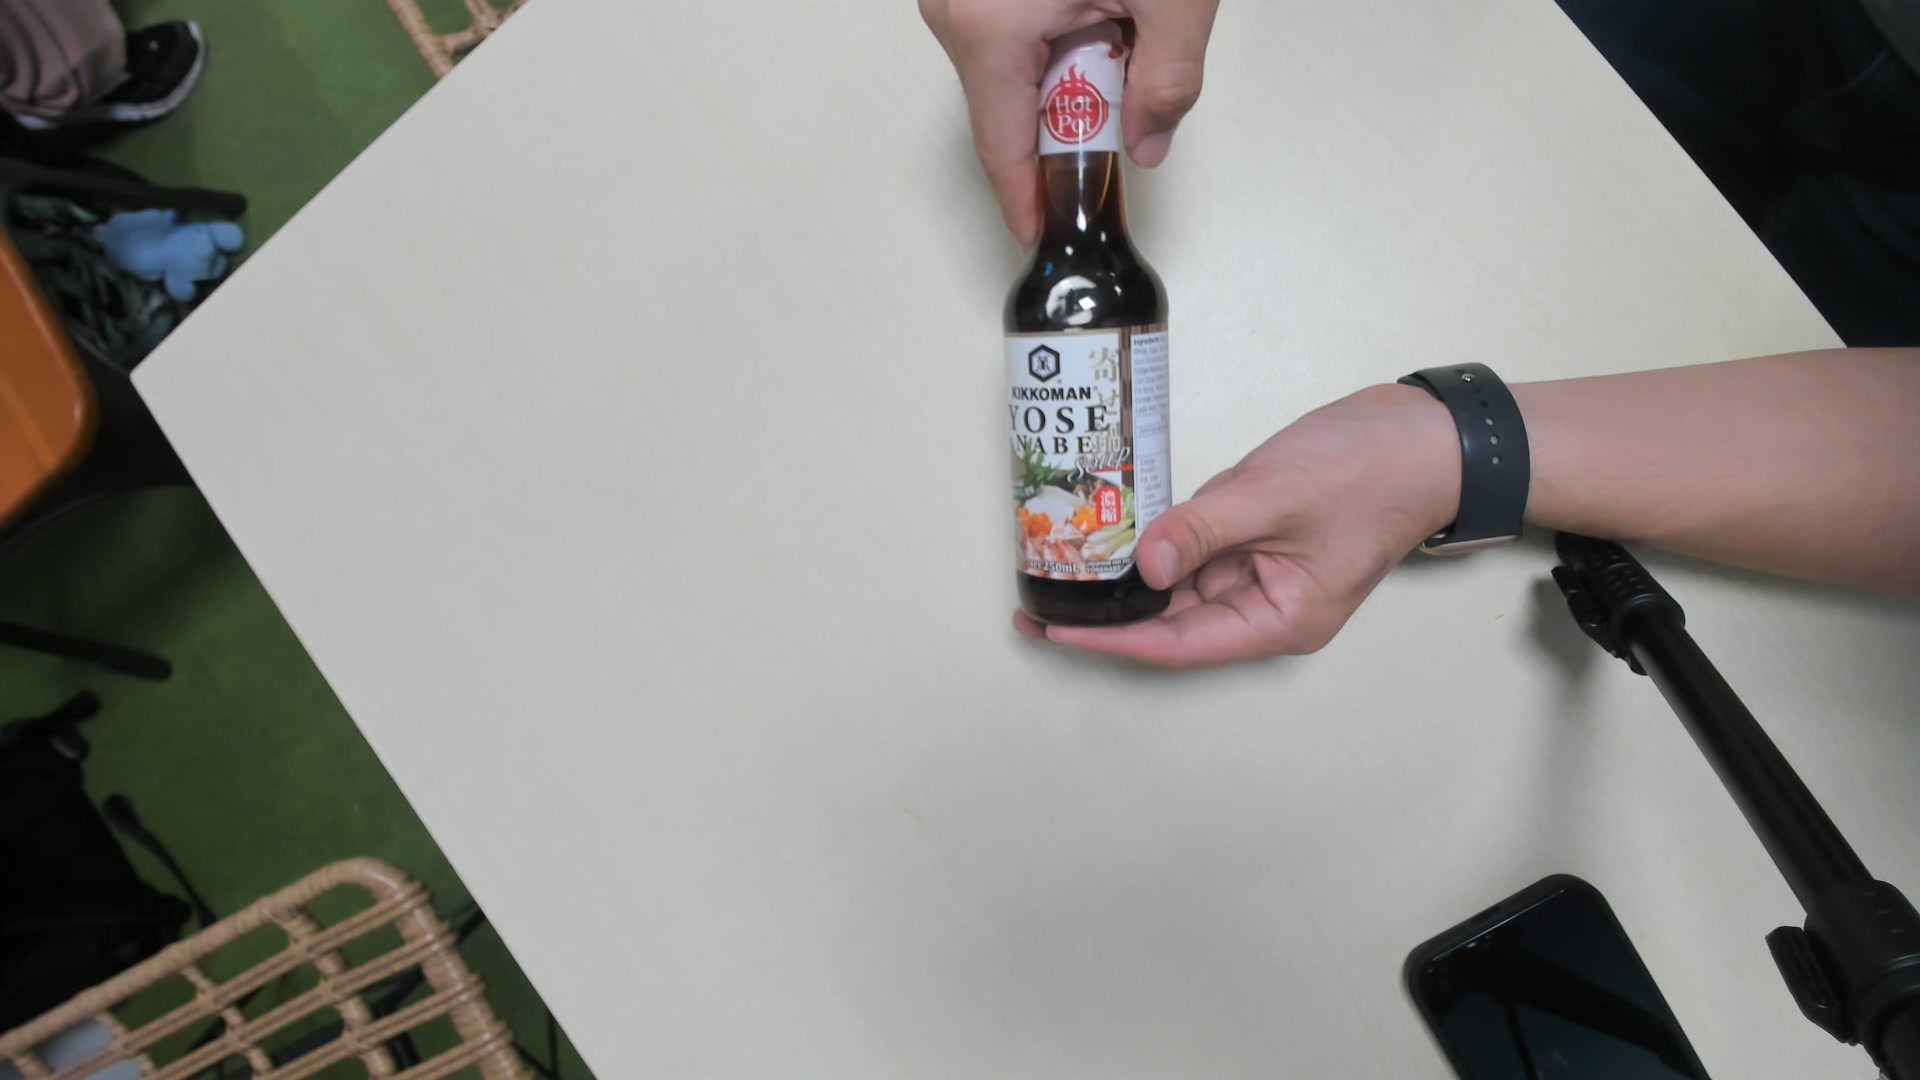OtherSauceDressing_200-299g_NonHalal_NonHealthy: (1004, 13, 1178, 630)
